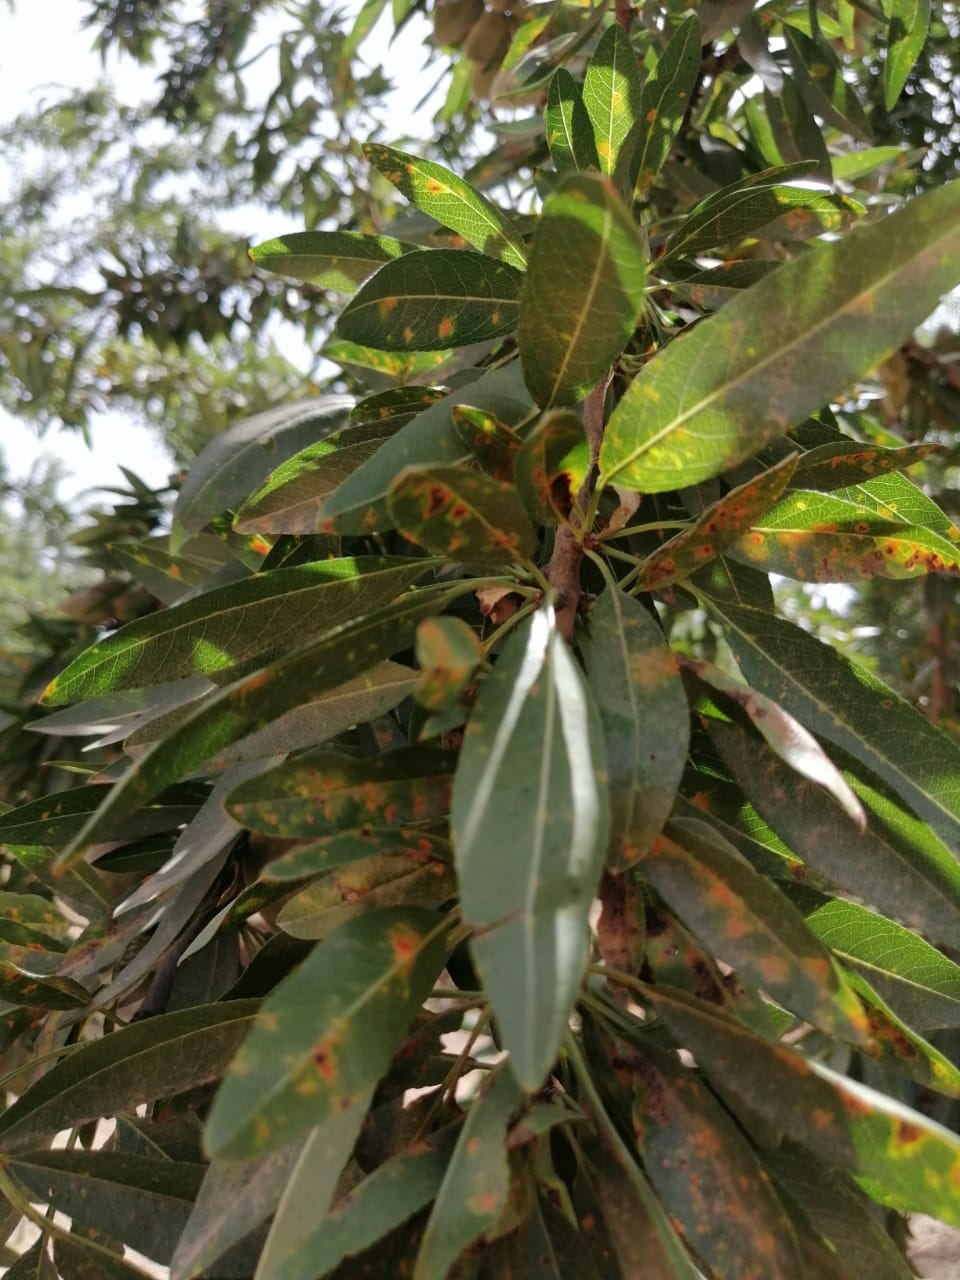polystigma: (606, 181, 960, 495), (195, 907, 452, 1169), (637, 827, 869, 1046), (632, 1049, 799, 1280), (351, 138, 534, 273), (725, 490, 960, 588), (329, 252, 526, 348), (221, 758, 456, 837), (387, 460, 536, 569), (232, 465, 401, 544), (576, 23, 641, 169)
